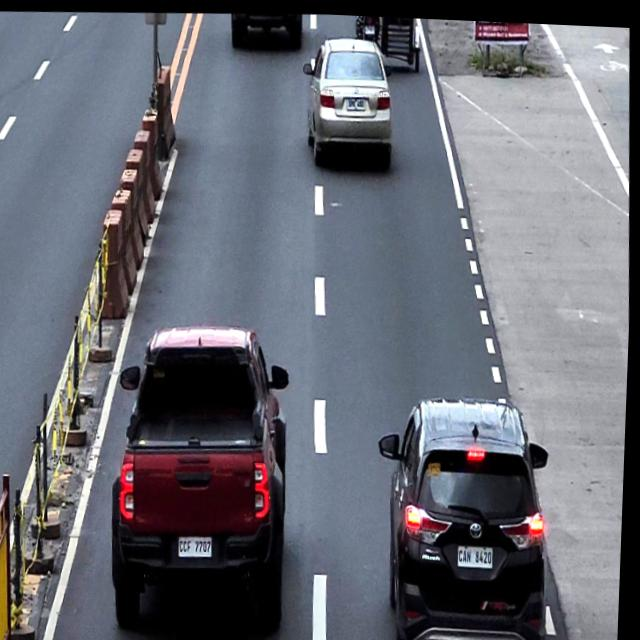Car: (104, 315, 303, 638), (375, 383, 561, 640), (300, 29, 398, 175)
License-Plate: (180, 531, 218, 557), (460, 539, 497, 565), (345, 92, 367, 108), (364, 20, 375, 31)
Tricycle: (353, 12, 424, 75)
